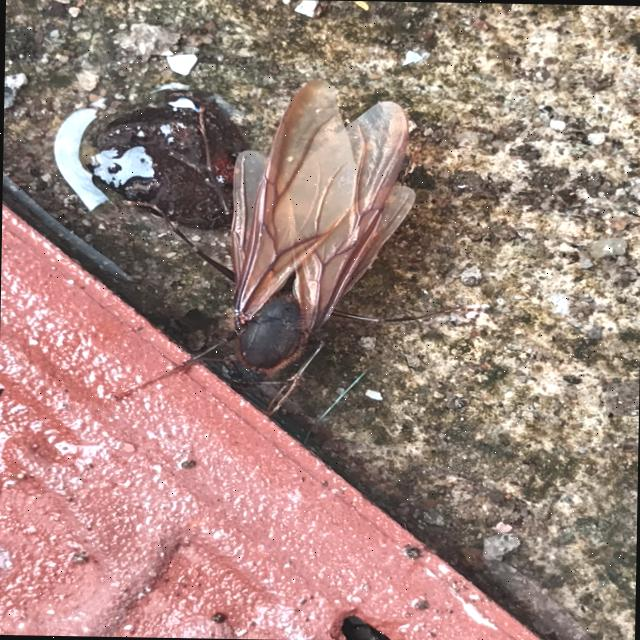Alive-Male-Alate: (110, 74, 468, 420)
